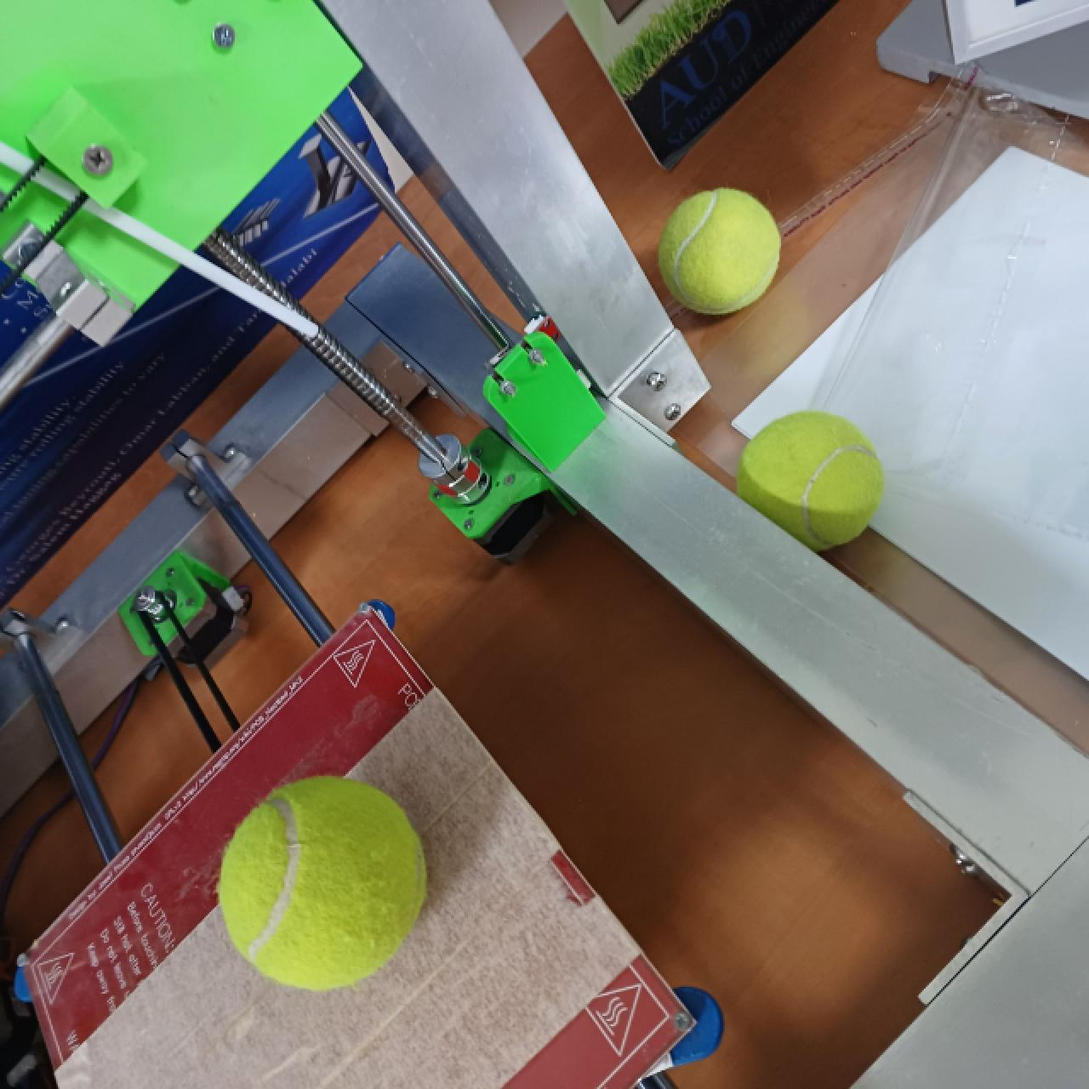tennis-ball: (212, 770, 438, 996), (727, 407, 895, 554), (651, 181, 792, 319)
